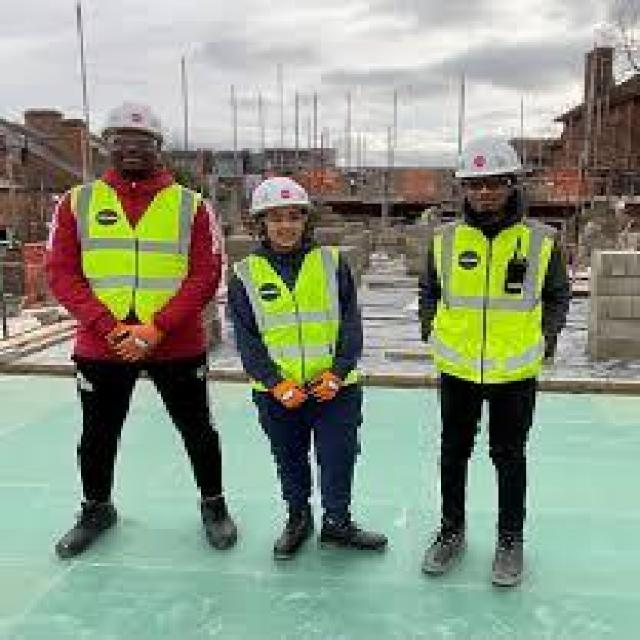Reflective-Jacket: (56, 172, 216, 357), (418, 212, 570, 388), (228, 241, 363, 399)
Safety-Helmet: (443, 130, 535, 190), (92, 90, 176, 145), (243, 169, 326, 222)
